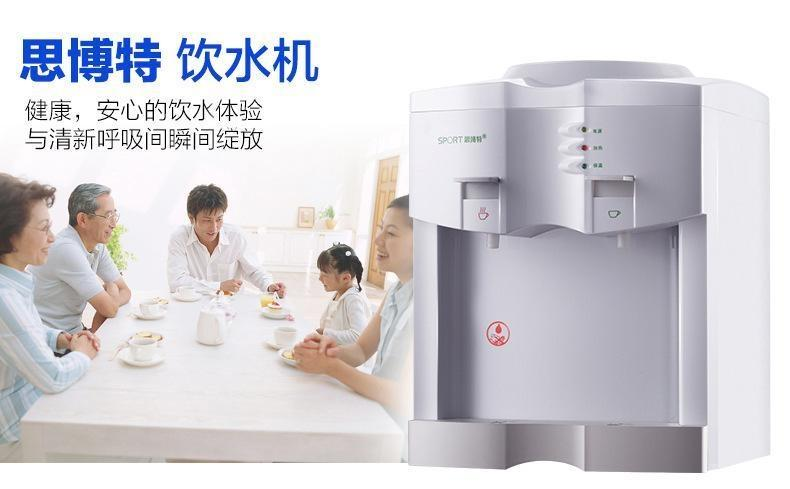Dispenser: (404, 59, 769, 470)
